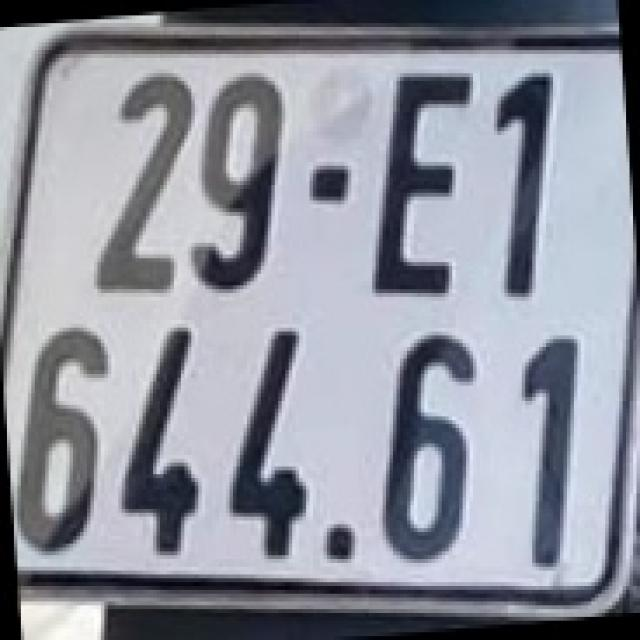1: (515, 332, 588, 570), (487, 65, 560, 297)
2: (90, 69, 192, 293)
4: (226, 324, 313, 559), (121, 320, 202, 555)
6: (376, 328, 480, 563), (17, 324, 108, 555)
9: (192, 70, 286, 290)
E: (369, 62, 473, 300)
